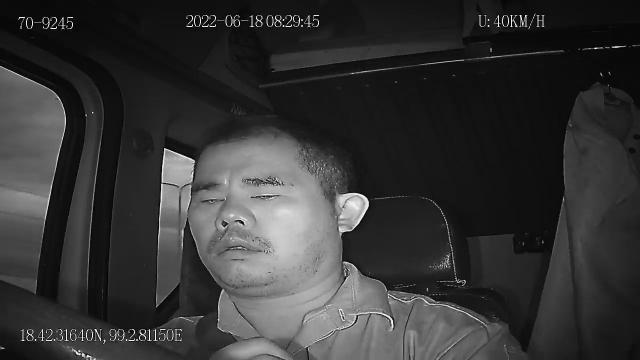SafeDriving: (240, 176, 292, 207), (193, 185, 230, 212)
Seatbelt: (193, 305, 239, 355)
